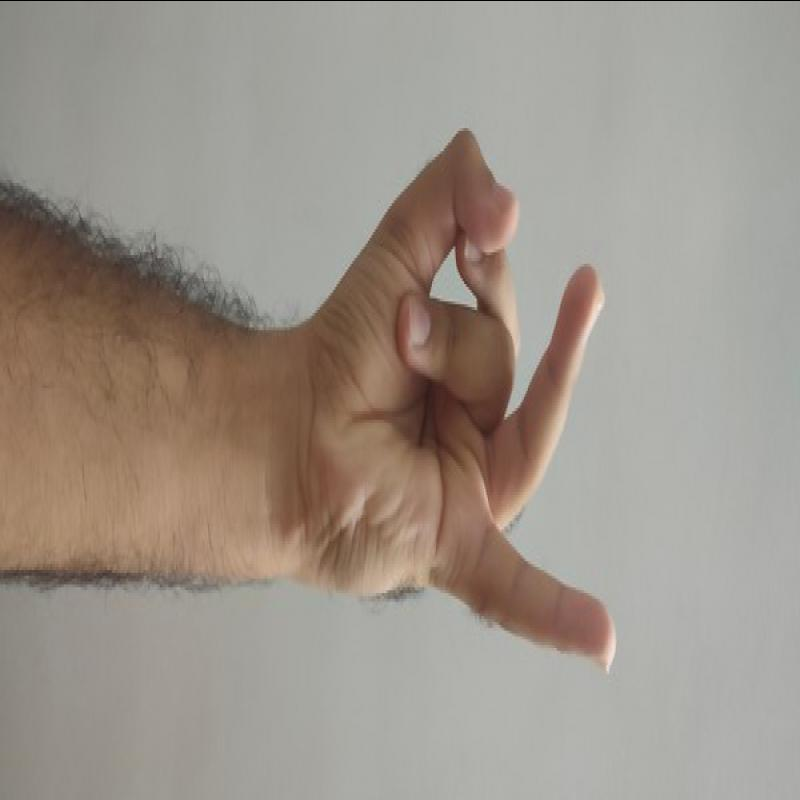Katakam: (286, 118, 635, 690)
